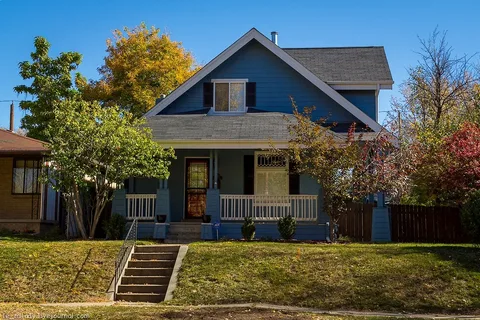private_hause: (131, 57, 390, 232)
